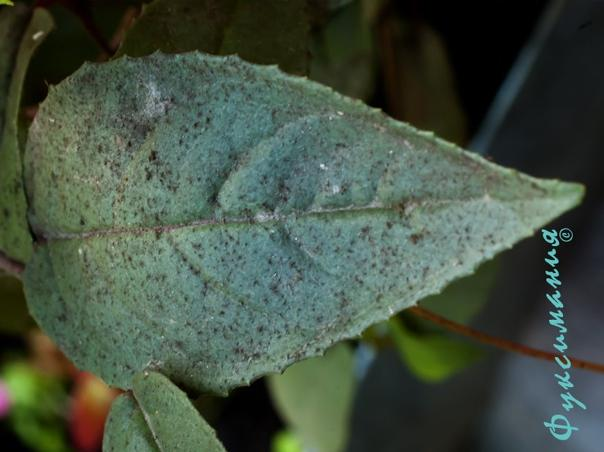soot dew: (24, 52, 581, 393)
